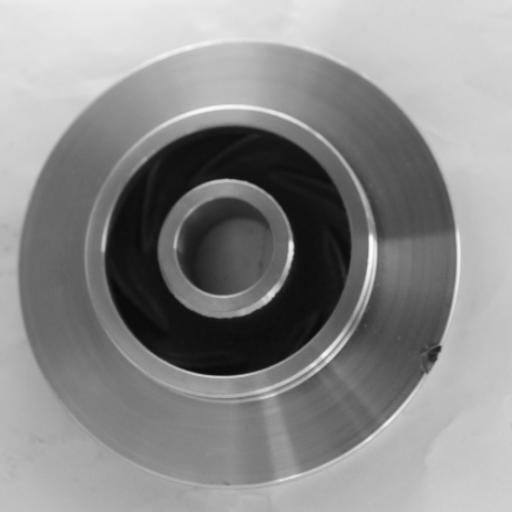crack: (414, 335, 450, 387)
unpolished_casting: (14, 36, 460, 489)
